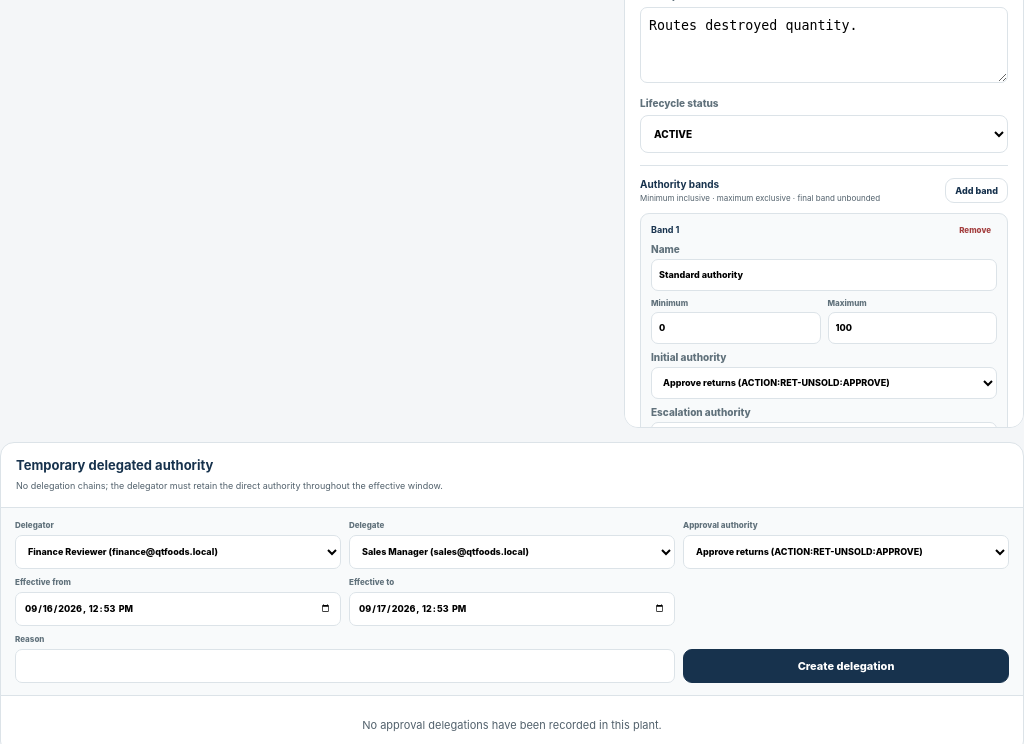
Scenario: approval governance workspace › creates a time-bounded delegation from a direct approver
This screenshot has width=1024, height=744.
(page scrolled)
Select "Finance Reviewer (finance@qtfoods.local)" in the dropdown labelled "Delegator" at (178, 552), box x1=15 y1=535 x2=341 y2=569
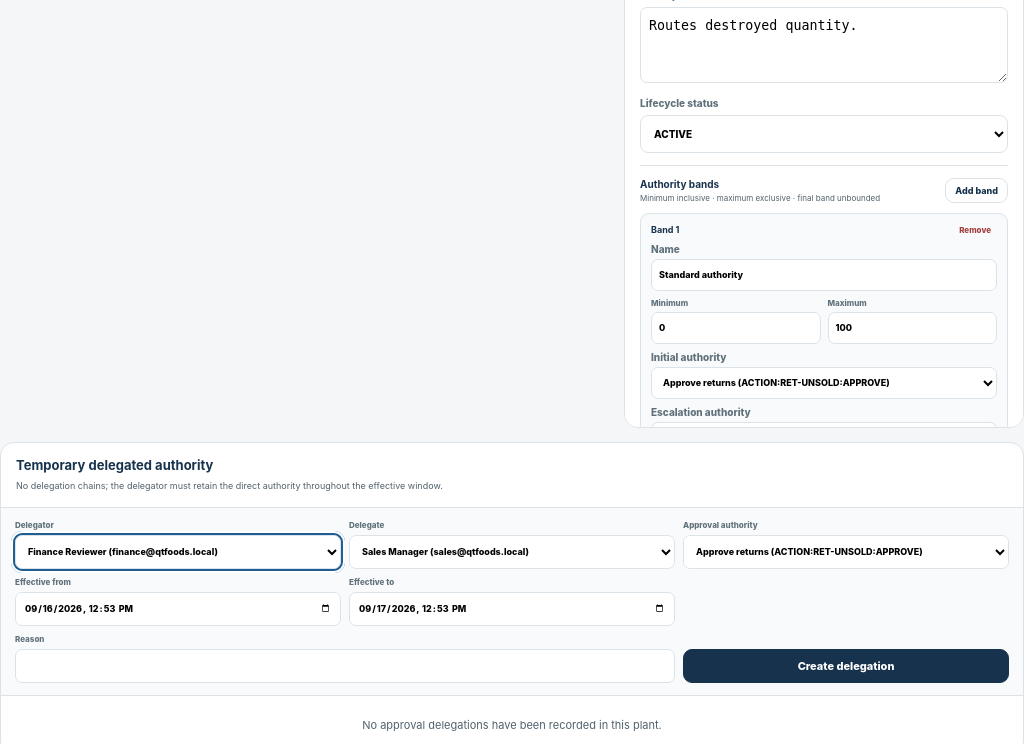
Select "Sales Manager (sales@qtfoods.local)" in the dropdown labelled "Delegate" at (512, 552), box x1=349 y1=535 x2=675 y2=569
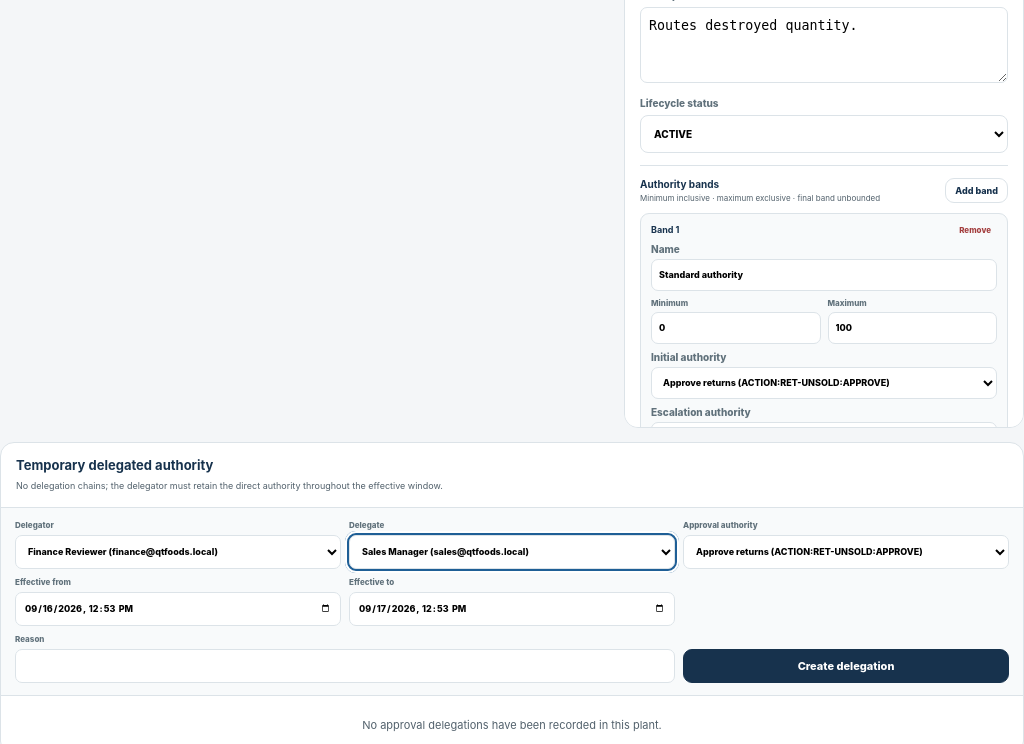
Type "Annual leave reviewer cover" into the field named "Delegation reason".
click(345, 666); type("Annual leave reviewer cover")  # box x1=15 y1=649 x2=675 y2=683
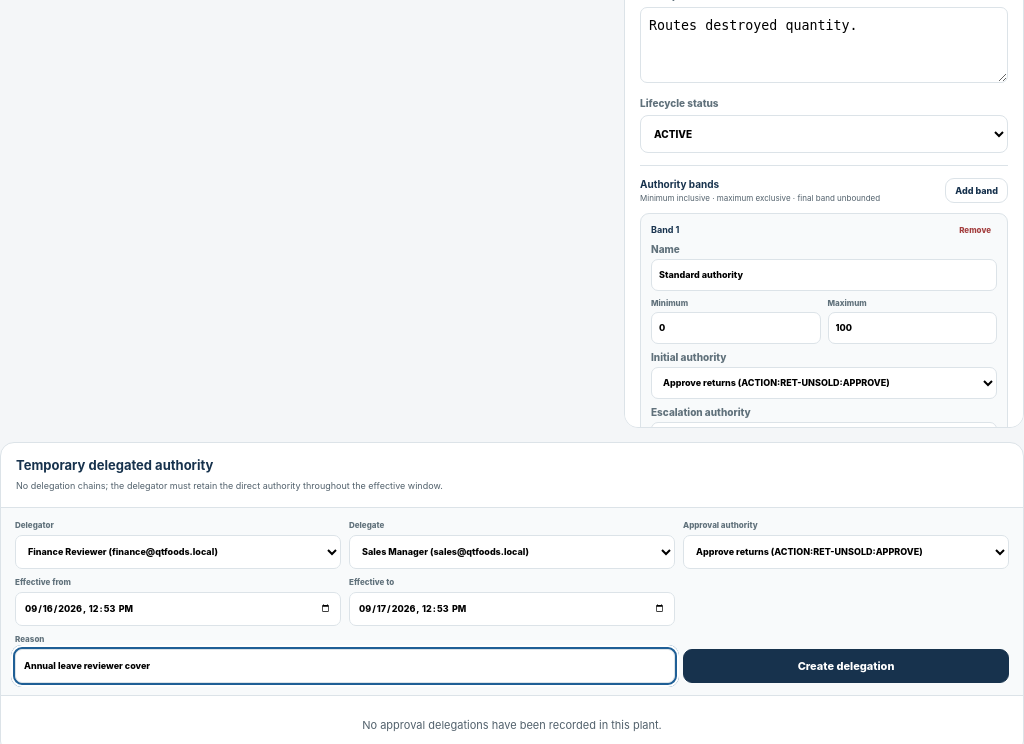
Click the button "Create delegation".
click(846, 666)  # box x1=683 y1=649 x2=1009 y2=683
(page scrolled)
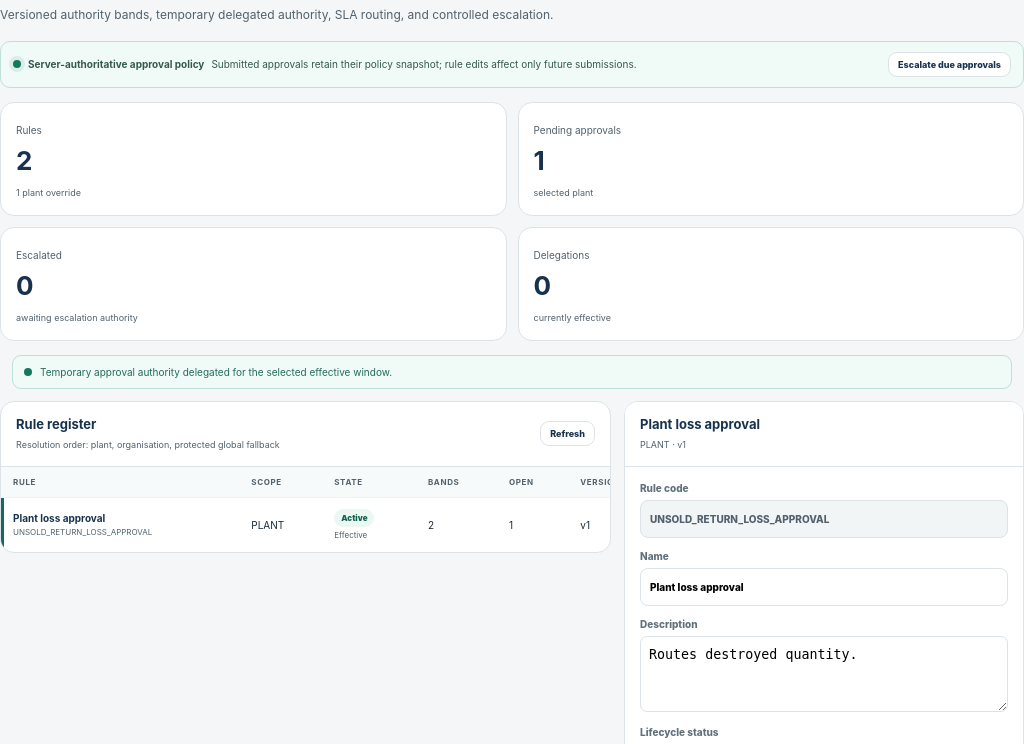
Expected: the message shows "authority delegated", x1=40 y1=366 x2=392 y2=378
